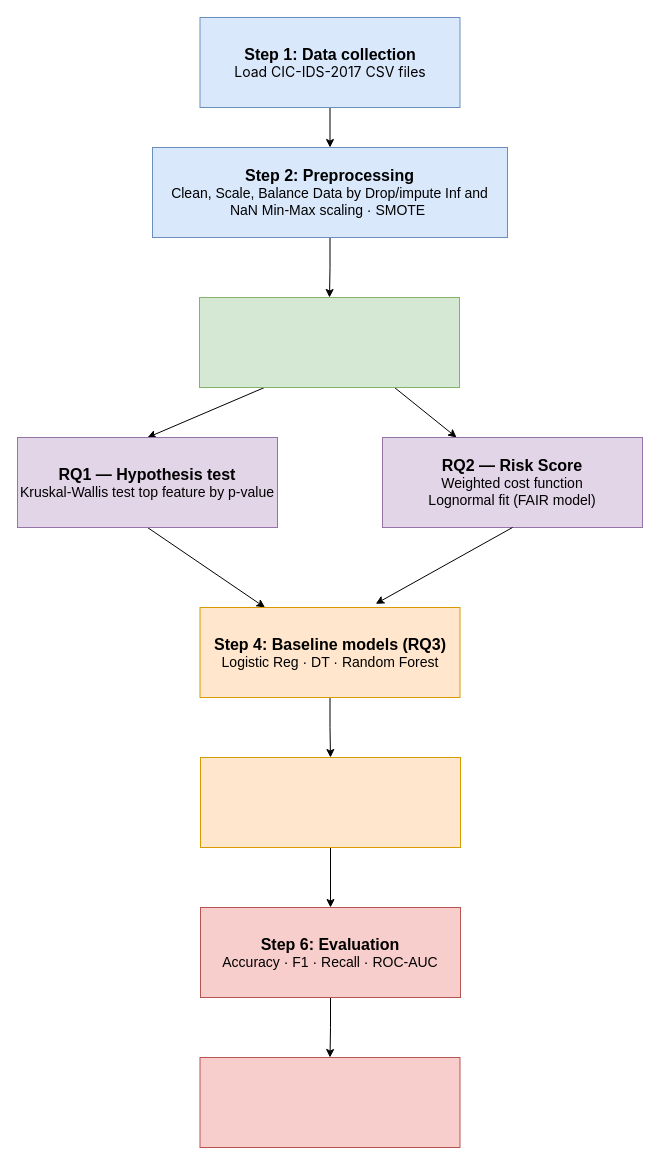
Some shapes in this 660 by 1165 pixel diagram are drawn without their labels. The shapes that lost their labels are listed below. From the top down, each one's centre as x and y in pixels, then its label:
At point 329,342: "Step 3: EDA Explore features and distributions".
At point 330,802: "Step 5: Deep learning (RQ4) MLP · Hyperparameter tuning".
At point 329,1102: "Step 7: Insights Security recommendations".
